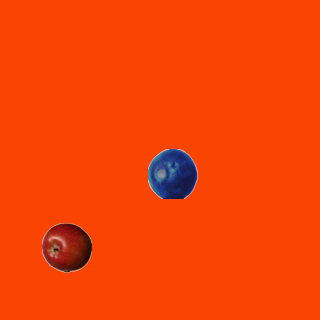Apple Braeburn: (41, 222, 91, 272)
Huckleberry: (147, 148, 197, 198)
